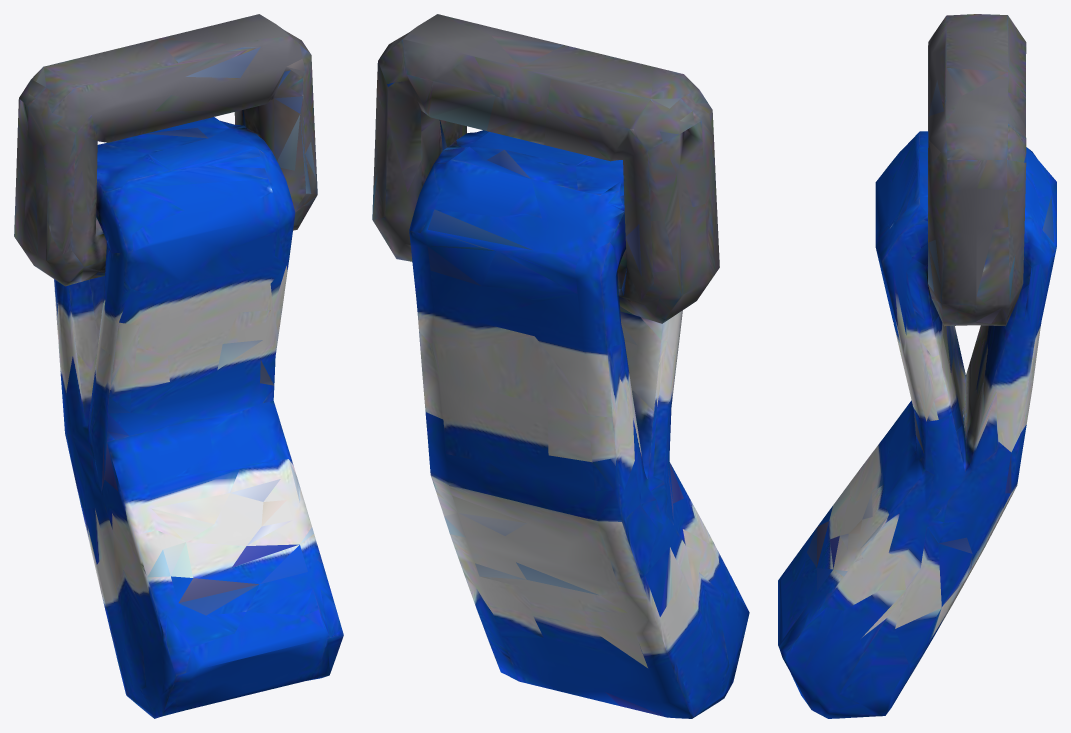
The model's file is milo_belt.glb.
The picture shows the model from 3 angles, left to right: view 1: azimuth 30°, elevation 25°; view 2: azimuth 150°, elevation 25°; view 3: azimuth 270°, elevation 25°; orthographic projection. The views are drawn at different scales.
Visible parts, largest first — view 1: node_0; view 2: node_0; view 3: node_0.
Boxes of the visible parts, left/top/right/bottom form: node_0: left=14, top=14, right=343, bottom=718; node_0: left=372, top=14, right=749, bottom=718; node_0: left=778, top=14, right=1056, bottom=718.
Bounding box in the file's own units: 0.5011 × 0.9999 × 0.4153.
1 material, 1 textured.
